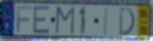1: (78, 5, 89, 37)
D: (118, 6, 136, 38)
E: (32, 5, 51, 36)
F: (16, 5, 34, 34)
I: (103, 7, 109, 37)
M: (54, 6, 76, 36)
